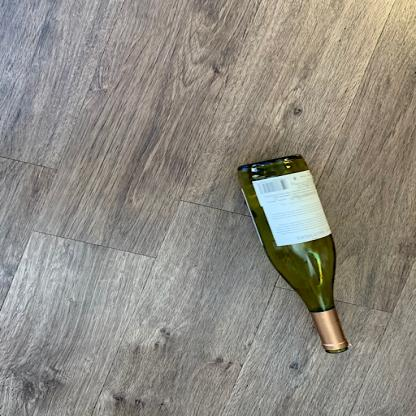trash: (236, 152, 351, 356)
